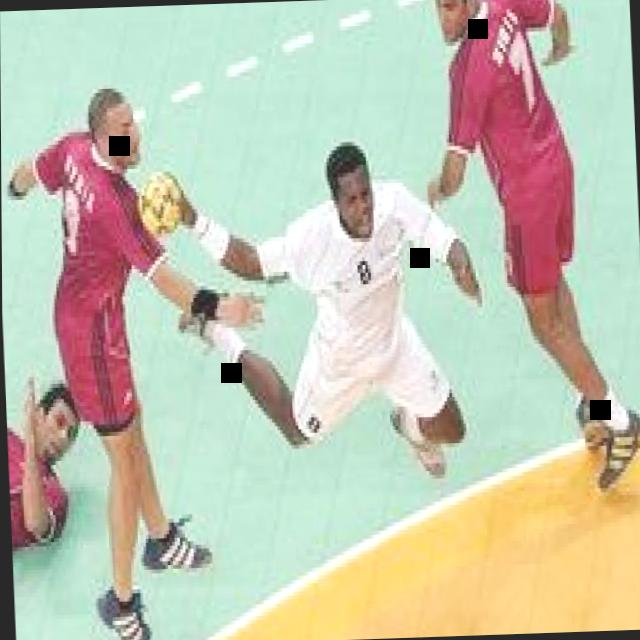Fall-Detected: (2, 293, 95, 623)
